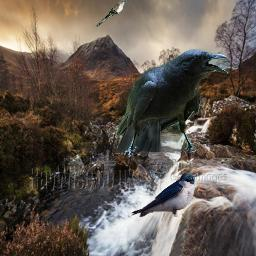Crow: (113, 49, 229, 164)
Cuckoo: (95, 0, 128, 28)
Swallow: (131, 172, 195, 217)
